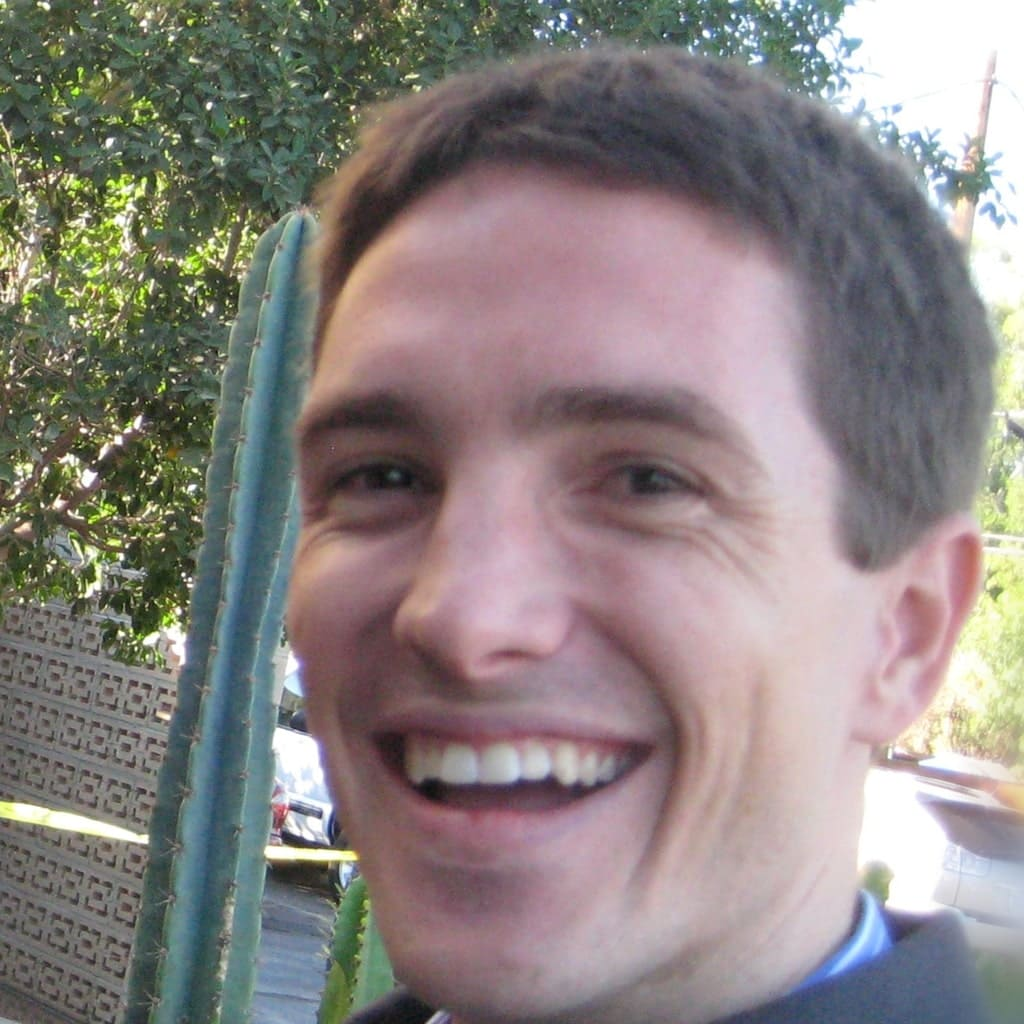without_mask: (303, 242, 792, 964)
